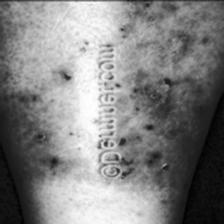Non-Cancerous Skin Condition: (126, 0, 174, 176)
